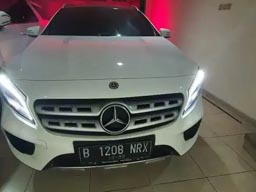plat: (80, 141, 148, 157)
